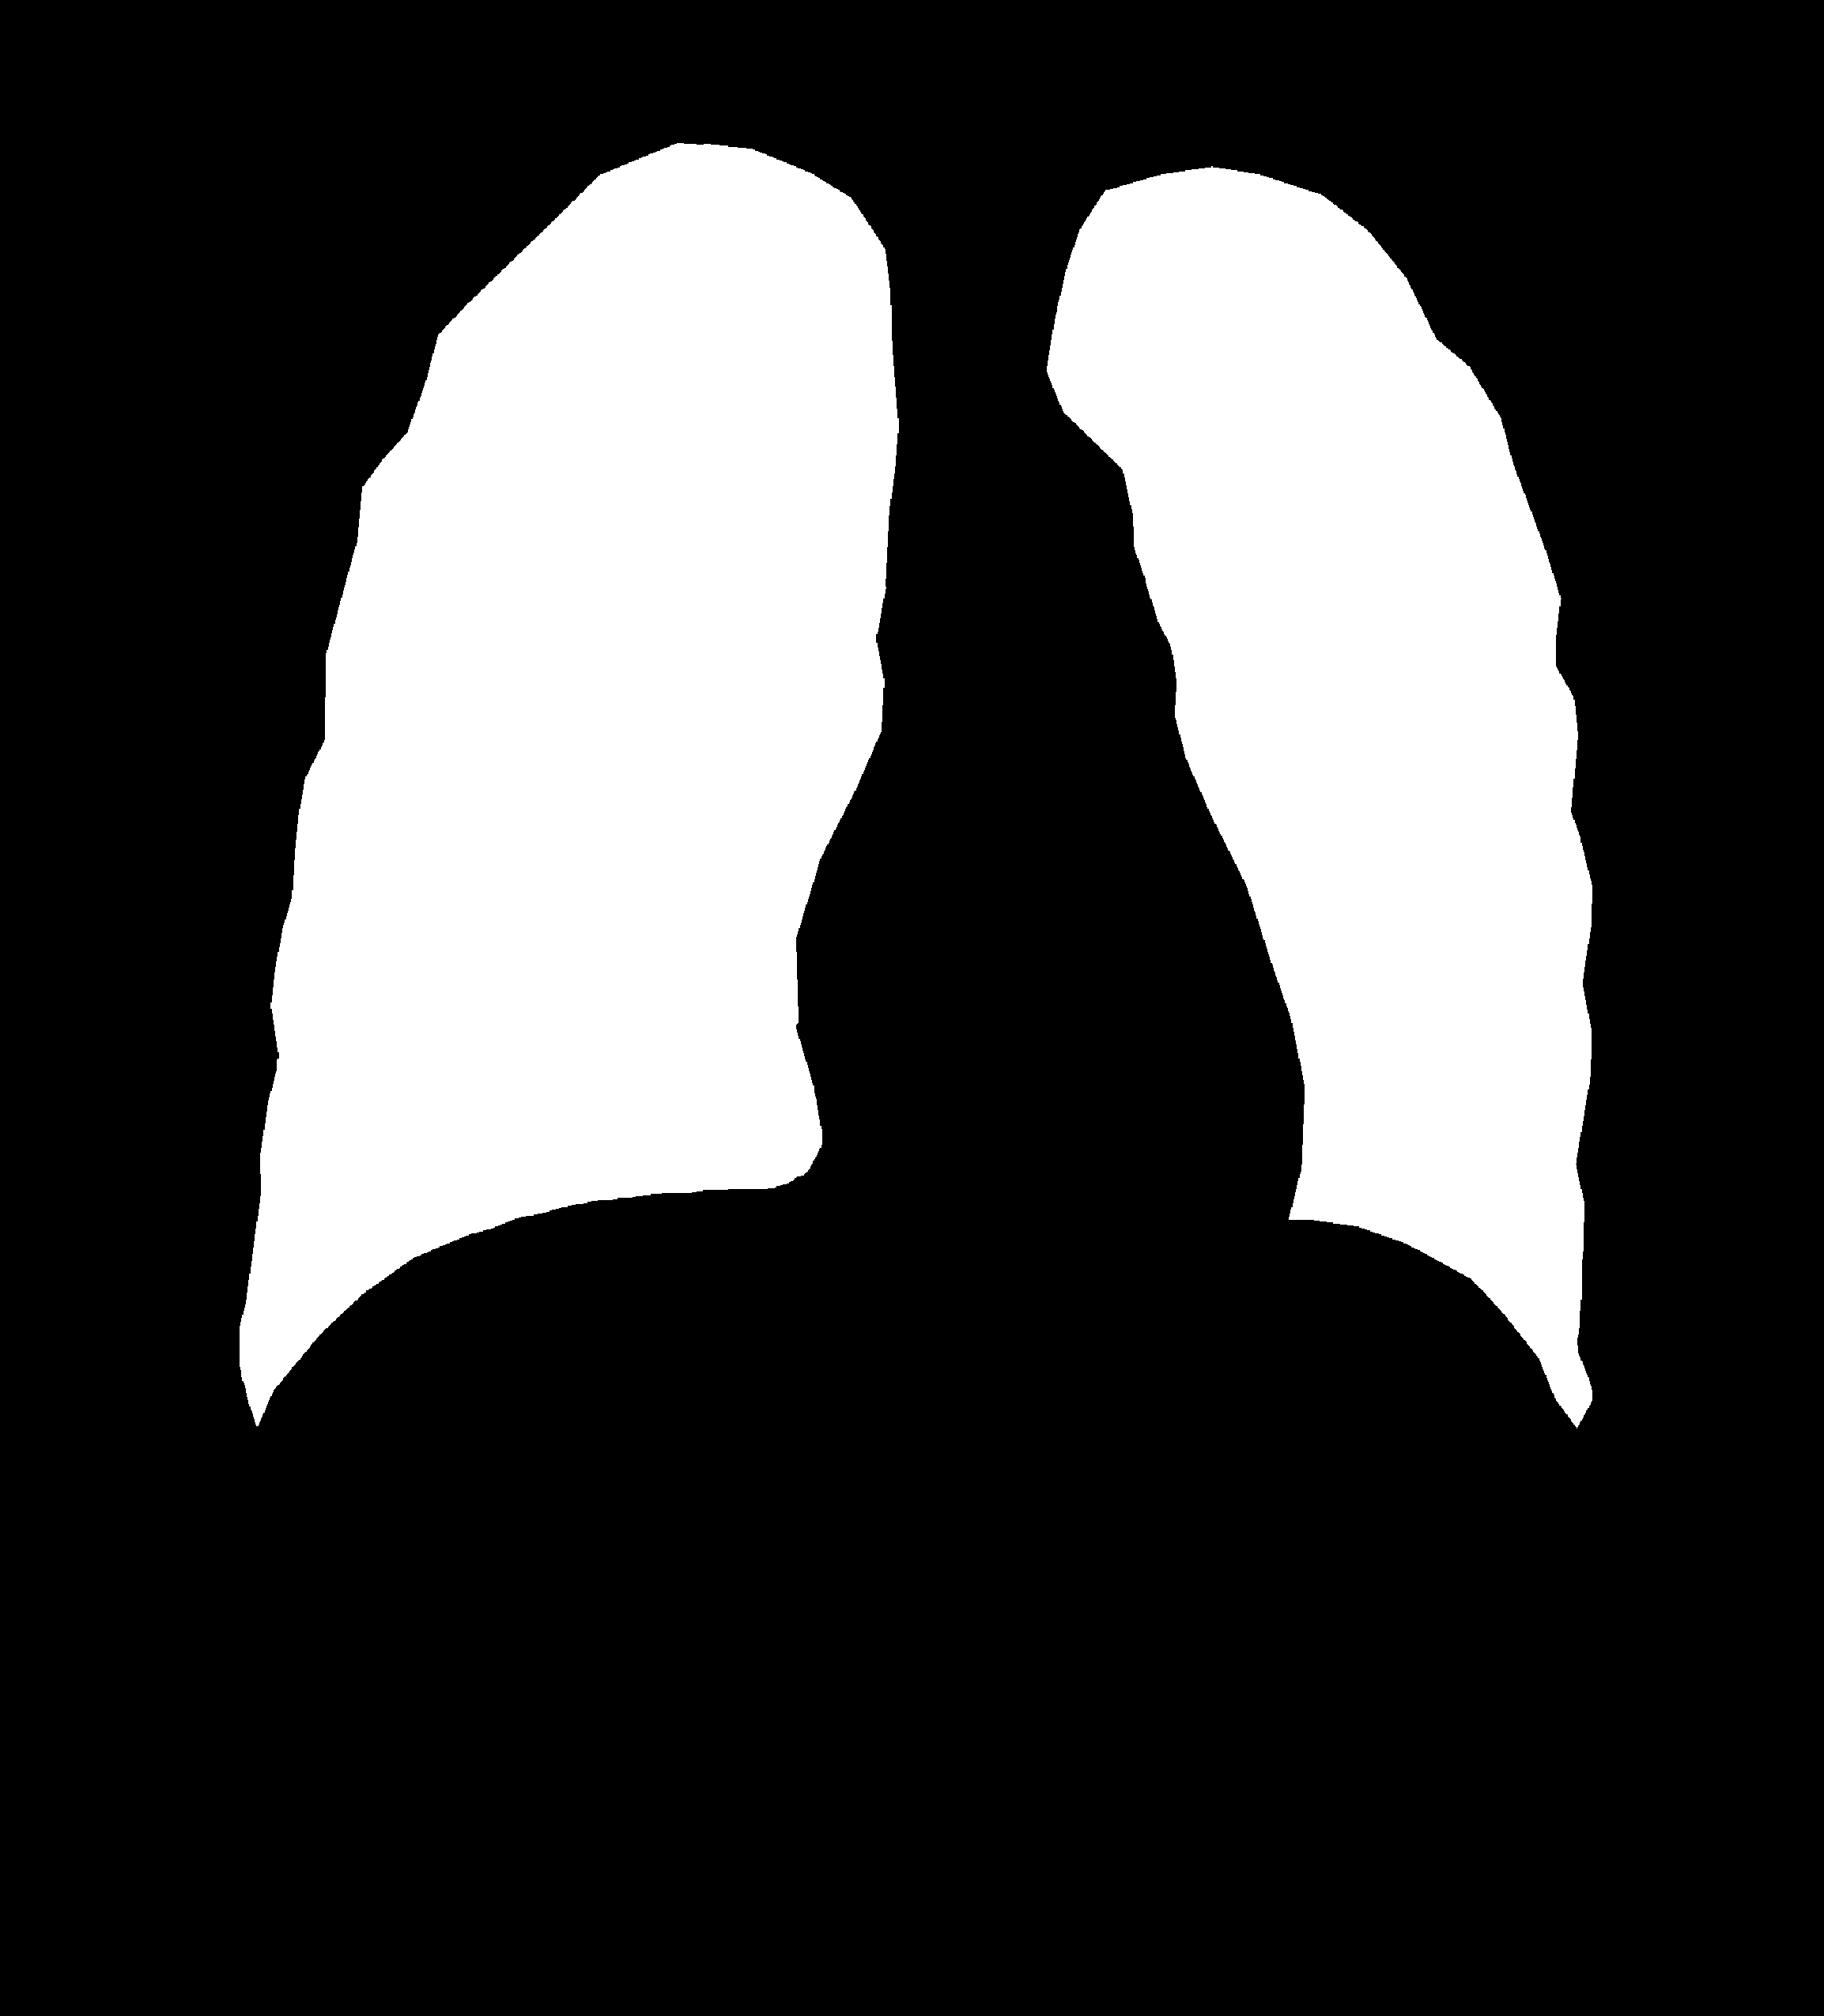heart: (792, 841, 1303, 1298)
left_lung: (239, 142, 899, 1426)
right_lung: (1046, 167, 1592, 1428)
